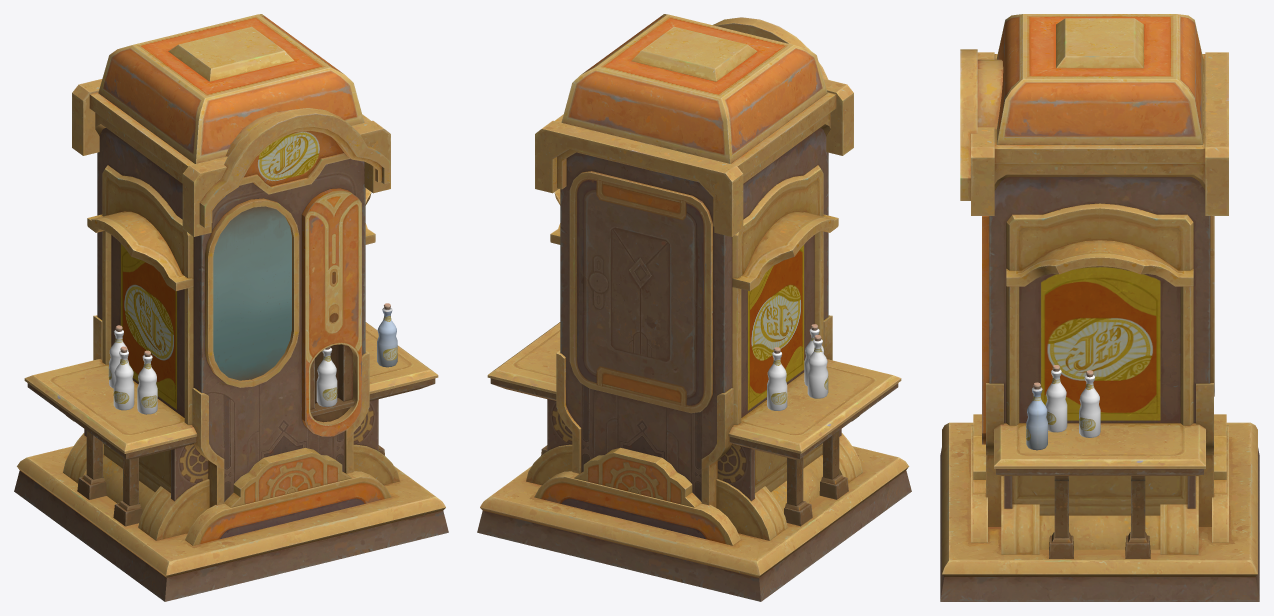
File: Homeworld_Exterior_Fd_Thing_Prop_Fengdaji_01_Lod0.fbx
The picture shows the model from 3 angles, left to right: view 1: azimuth 30°, elevation 25°; view 2: azimuth 150°, elevation 25°; view 3: azimuth 270°, elevation 25°; orthographic projection. The views are drawn at different scales.
Parts seen in each view (by area): view 1: Homeworld_Exterior_Fd_Thing_Prop_Fengdaji_01_Lod0, Homeworld_Exterior_Fd_Thing_Prop_Fengdaji_02_Vo (13), Homeworld_Exterior_Fd_Thing_Prop_Fengdaji_02_Vo (11), Homeworld_Exterior_Fd_Thing_Prop_Fengdaji_03_Vo, Homeworld_Exterior_Fd_Thing_Prop_Fengdaji_02_Vo, Homeworld_Exterior_Fd_Thing_Prop_Fengdaji_02_Vo (12); view 2: Homeworld_Exterior_Fd_Thing_Prop_Fengdaji_01_Lod0, Homeworld_Exterior_Fd_Thing_Prop_Fengdaji_02_Vo (13), Homeworld_Exterior_Fd_Thing_Prop_Fengdaji_02_Vo (12); view 3: Homeworld_Exterior_Fd_Thing_Prop_Fengdaji_01_Lod0, Homeworld_Exterior_Fd_Thing_Prop_Fengdaji_02_Vo (9), Homeworld_Exterior_Fd_Thing_Prop_Fengdaji_03_Vo, Homeworld_Exterior_Fd_Thing_Prop_Fengdaji_02_Vo (10).
Boxes of the visible parts, <box> form: Homeworld_Exterior_Fd_Thing_Prop_Fengdaji_01_Lod0: <box>14,14,448,601</box>; Homeworld_Exterior_Fd_Thing_Prop_Fengdaji_02_Vo (13): <box>113,346,134,410</box>; Homeworld_Exterior_Fd_Thing_Prop_Fengdaji_02_Vo (11): <box>137,350,157,414</box>; Homeworld_Exterior_Fd_Thing_Prop_Fengdaji_03_Vo: <box>377,303,397,367</box>; Homeworld_Exterior_Fd_Thing_Prop_Fengdaji_02_Vo: <box>316,346,337,407</box>; Homeworld_Exterior_Fd_Thing_Prop_Fengdaji_02_Vo (12): <box>108,325,129,388</box>; Homeworld_Exterior_Fd_Thing_Prop_Fengdaji_01_Lod0: <box>477,14,911,601</box>; Homeworld_Exterior_Fd_Thing_Prop_Fengdaji_02_Vo (13): <box>807,335,828,398</box>; Homeworld_Exterior_Fd_Thing_Prop_Fengdaji_02_Vo (12): <box>767,347,787,410</box>; Homeworld_Exterior_Fd_Thing_Prop_Fengdaji_01_Lod0: <box>940,14,1259,601</box>; Homeworld_Exterior_Fd_Thing_Prop_Fengdaji_02_Vo (9): <box>1079,370,1100,437</box>; Homeworld_Exterior_Fd_Thing_Prop_Fengdaji_03_Vo: <box>1026,382,1047,450</box>; Homeworld_Exterior_Fd_Thing_Prop_Fengdaji_02_Vo (10): <box>1045,365,1067,432</box>.
Size of what is drawn, in the model's own units: 1.89 by 2.68 by 1.58.
